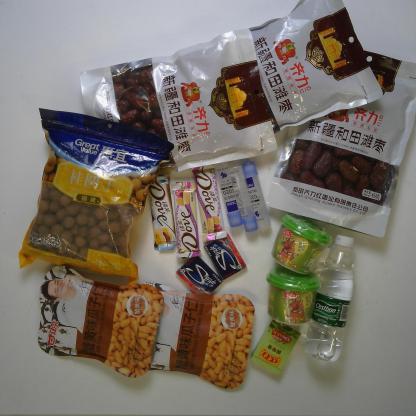Candy: (250, 319, 301, 374)
Chocolate: (193, 166, 231, 242), (171, 180, 203, 259), (147, 173, 178, 252)
Dried Food: (263, 37, 414, 240), (175, 0, 386, 144), (77, 28, 278, 178), (19, 106, 174, 282)
Dried Fruit: (34, 263, 165, 380), (126, 278, 256, 391)
Drink: (302, 235, 356, 363)
Gum: (173, 254, 221, 298), (204, 234, 246, 282)
Instant Drink: (270, 212, 332, 276), (264, 269, 320, 325)
Stationery: (229, 164, 257, 234), (242, 158, 270, 225), (216, 163, 242, 229)
